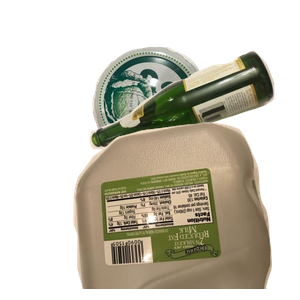glass: (87, 48, 300, 190)
metal: (90, 44, 289, 195)
plastic: (71, 120, 300, 300)
trash: (92, 174, 272, 300)
